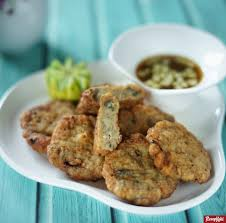Pempek kulit: (101, 133, 166, 207), (148, 120, 215, 184), (48, 114, 101, 180), (95, 93, 121, 156), (73, 181, 75, 188)
